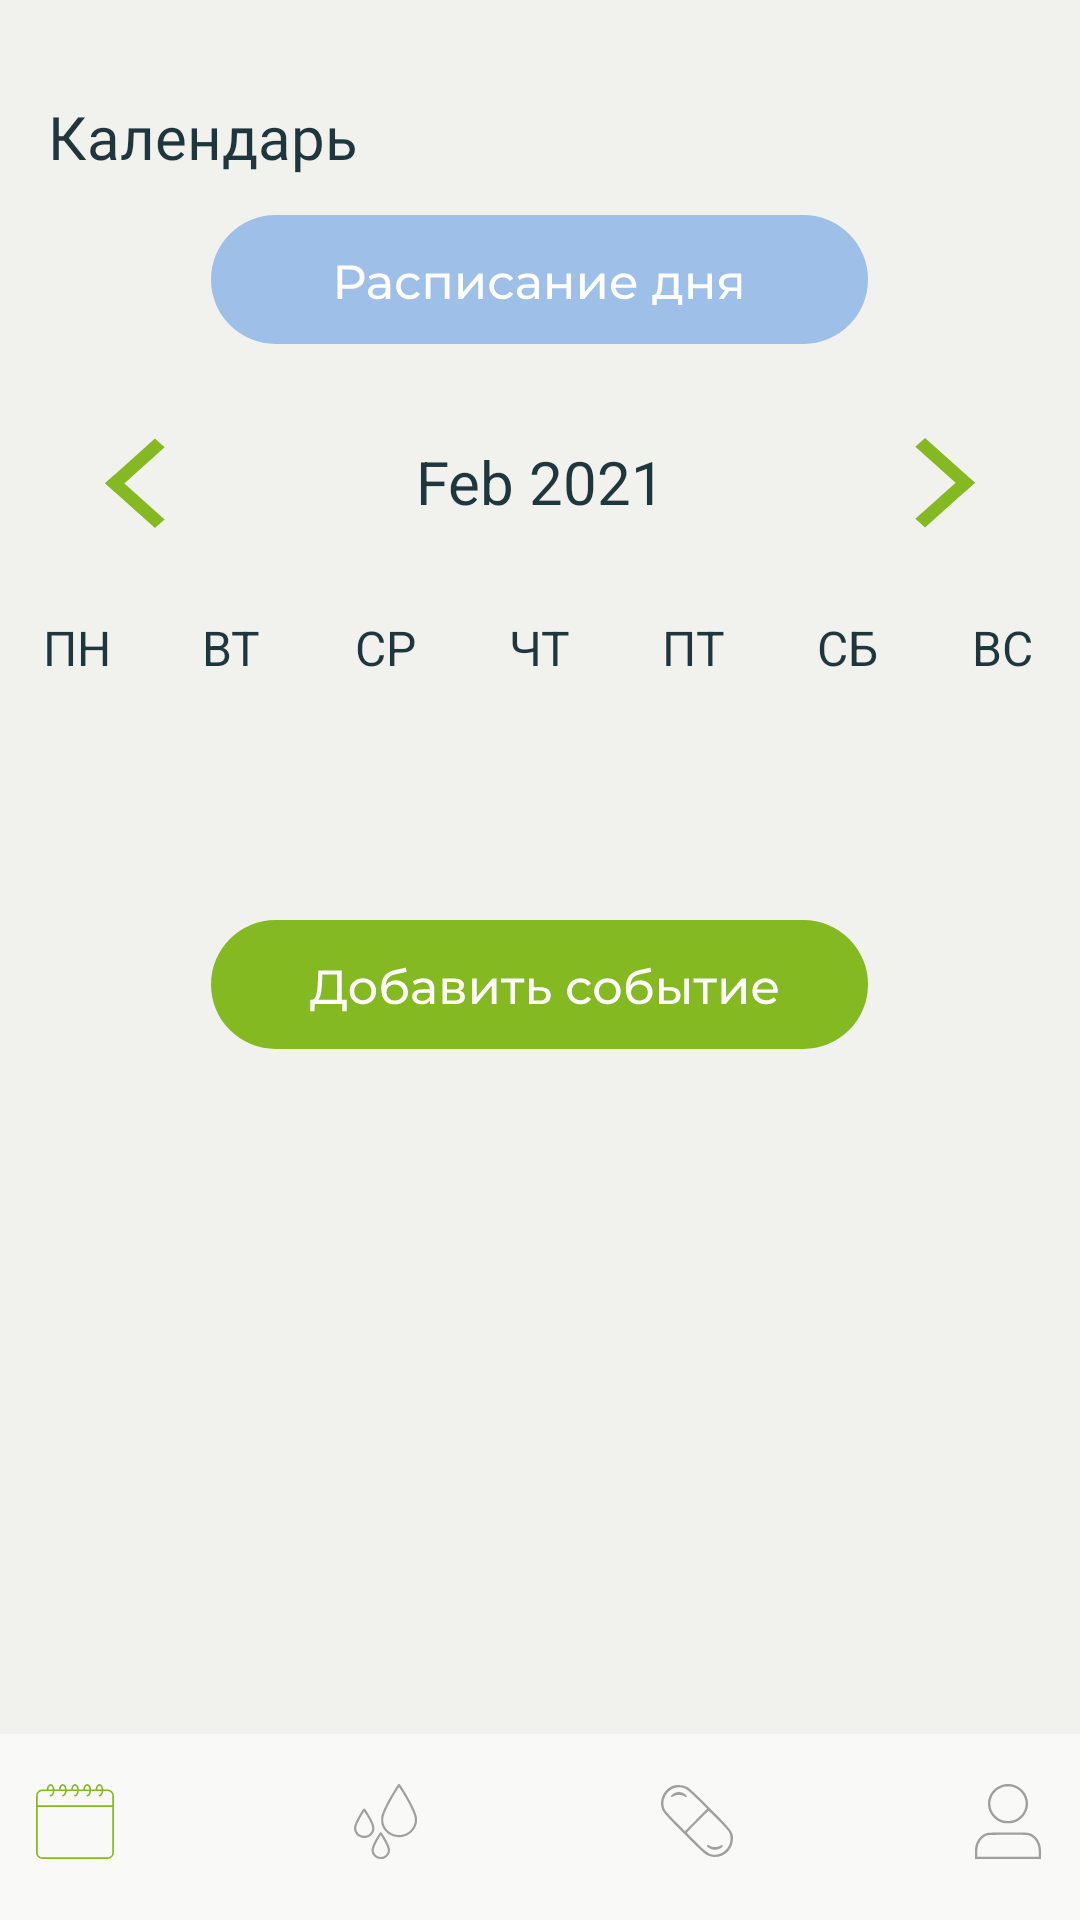

Icons on this 1080 × 1920 Android screen, each with its box as bbox=(x1, y1, x2, y2):
left: bbox=(105, 438, 165, 528)
lekgray: bbox=(661, 1785, 733, 1857)
right: bbox=(915, 438, 975, 528)
Водный баланс: bbox=(354, 1784, 417, 1859)
